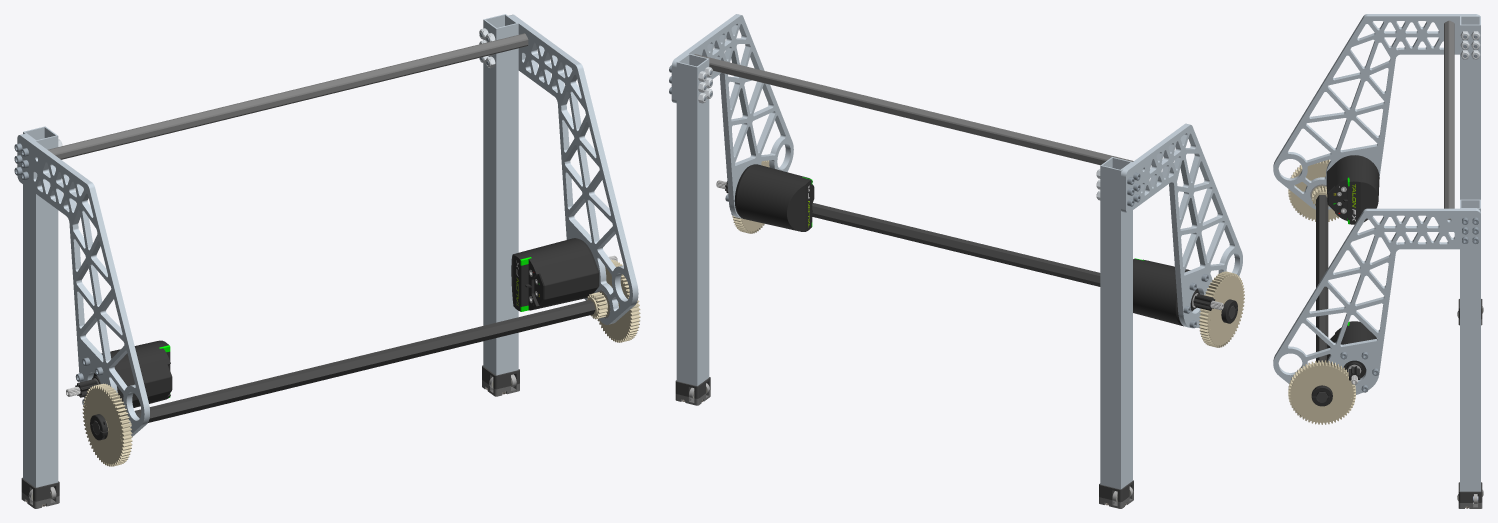
3 views of the same model, side by side, from view 1: azimuth 30°, elevation 25°; view 2: azimuth 150°, elevation 25°; view 3: azimuth 270°, elevation 25° (orthographic). The views are drawn at different scales.
Visible parts, largest first — view 1: 3rd Stage Left Tube (×2), Pivot Plate (×2), Kraken X60 Brushless Motor (×2), 1/2" Hex (23.125 in), 1/2" Rounded Hex (REV) (21.5 in), 62t Aluminum Spur Gear (20 DP, 1/2" Hex Bore) (×2); view 2: 3rd Stage Left Tube (×2), Pivot Plate (×2), Kraken X60 Brushless Motor (×2), 1/2" Rounded Hex (REV) (21.5 in), 1/2" Hex (23.125 in), 62t Aluminum Spur Gear (20 DP, 1/2" Hex Bore); view 3: Pivot Plate (×2), 3rd Stage Left Tube (×2), 62t Aluminum Spur Gear (20 DP, 1/2" Hex Bore) (×2), Kraken X60 Brushless Motor (×2), 1/2" Rounded Hex (REV) (21.5 in), 1/2" Hex (23.125 in), WCP-0418-006 Rev1, 1/2" Hex Clamping Shaft Collar.
Boxes of the visible parts, x1=… form: 3rd Stage Left Tube (×2): x1=23, y1=14, x2=518, y2=487; Pivot Plate (×2): x1=17, y1=14, x2=638, y2=436; Kraken X60 Brushless Motor (×2): x1=66, y1=238, x2=617, y2=407; 1/2" Hex (23.125 in): x1=92, y1=300, x2=595, y2=434; 1/2" Rounded Hex (REV) (21.5 in): x1=48, y1=33, x2=528, y2=159; 62t Aluminum Spur Gear (20 DP, 1/2" Hex Bore) (×2): x1=82, y1=259, x2=640, y2=466; 3rd Stage Left Tube (×2): x1=676, y1=54, x2=1132, y2=489; Pivot Plate (×2): x1=671, y1=14, x2=1242, y2=328; Kraken X60 Brushless Motor (×2): x1=716, y1=164, x2=1223, y2=326; 1/2" Rounded Hex (REV) (21.5 in): x1=694, y1=54, x2=1133, y2=165; 1/2" Hex (23.125 in): x1=812, y1=203, x2=1235, y2=318; 62t Aluminum Spur Gear (20 DP, 1/2" Hex Bore): x1=1199, y1=271, x2=1244, y2=347; Pivot Plate (×2): x1=1273, y1=14, x2=1480, y2=394; 3rd Stage Left Tube (×2): x1=1460, y1=16, x2=1480, y2=491; 62t Aluminum Spur Gear (20 DP, 1/2" Hex Bore) (×2): x1=1288, y1=159, x2=1355, y2=424; Kraken X60 Brushless Motor (×2): x1=1326, y1=155, x2=1379, y2=384; 1/2" Rounded Hex (REV) (21.5 in): x1=1444, y1=20, x2=1454, y2=219; 1/2" Hex (23.125 in): x1=1316, y1=195, x2=1328, y2=401; WCP-0418-006 Rev1: x1=1458, y1=482, x2=1482, y2=502; 1/2" Hex Clamping Shaft Collar: x1=1311, y1=385, x2=1332, y2=406.
Size of the model in its own units: 0.6208 by 0.3969 by 0.2524.
